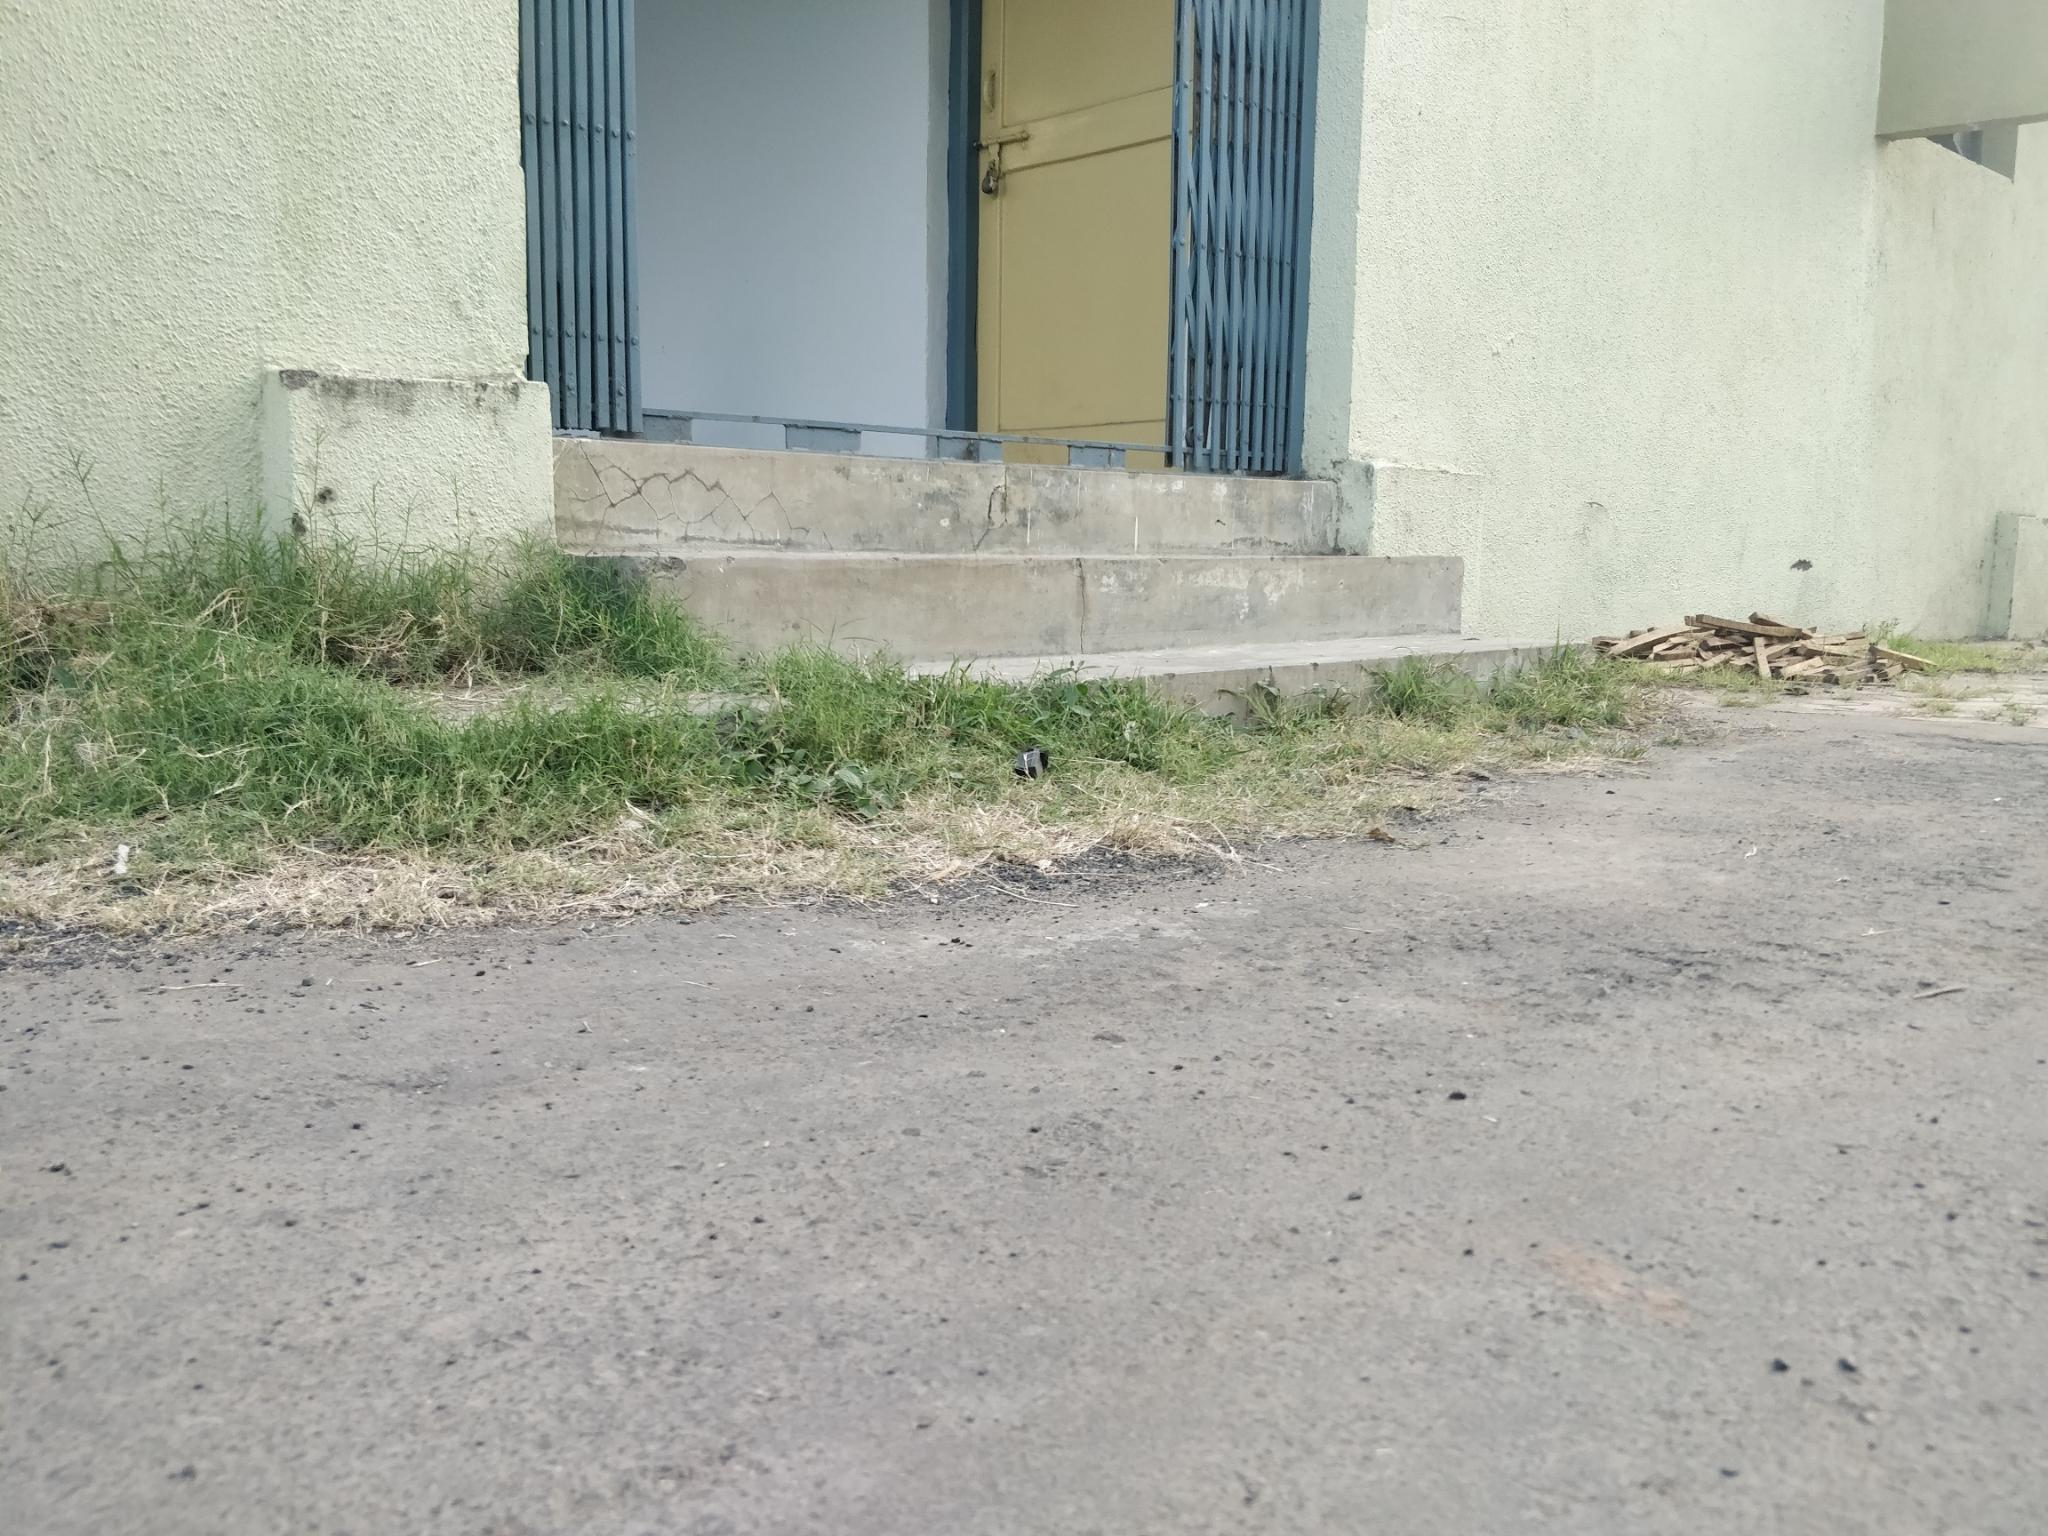Bench: (553, 437, 1509, 697)
